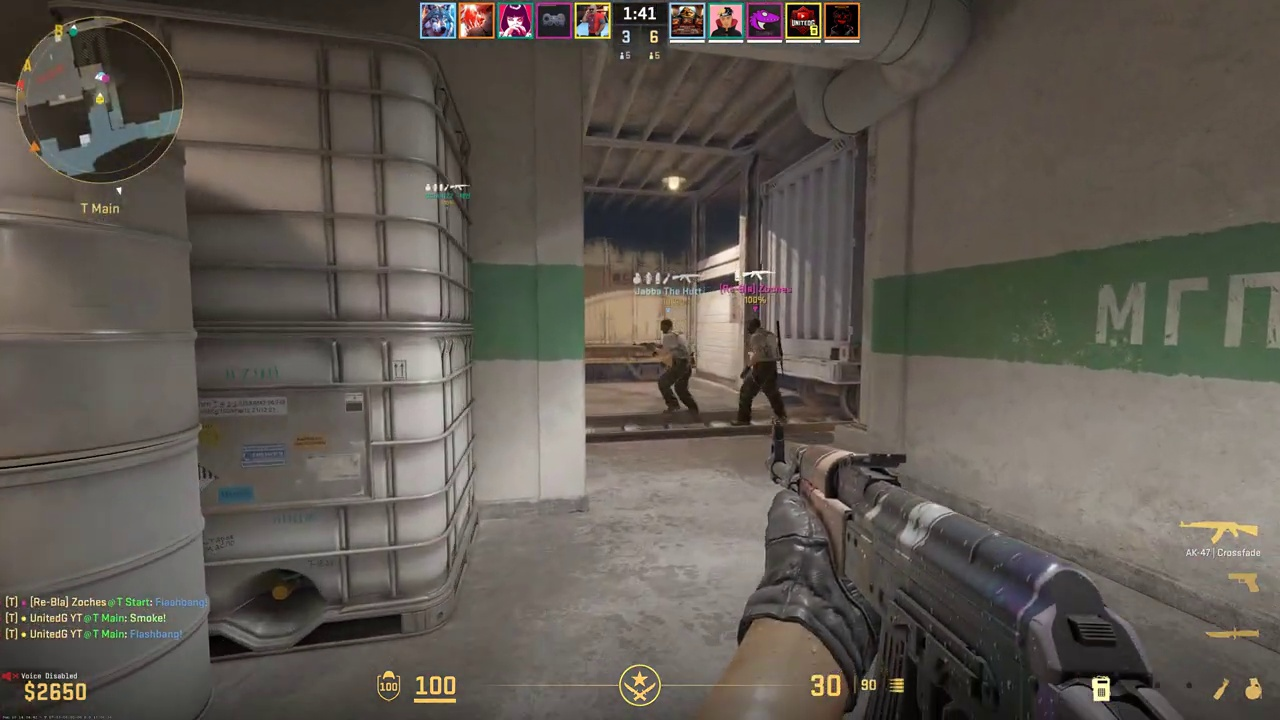Terrorist: (735, 319, 787, 426), (654, 320, 697, 416)
